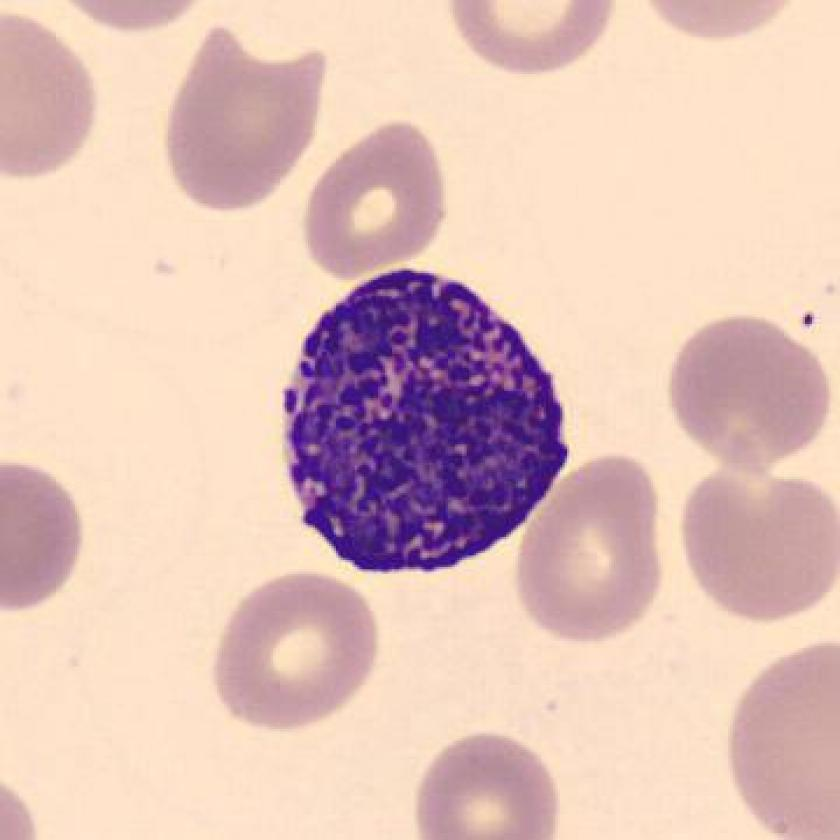basophil: (260, 254, 582, 601)
